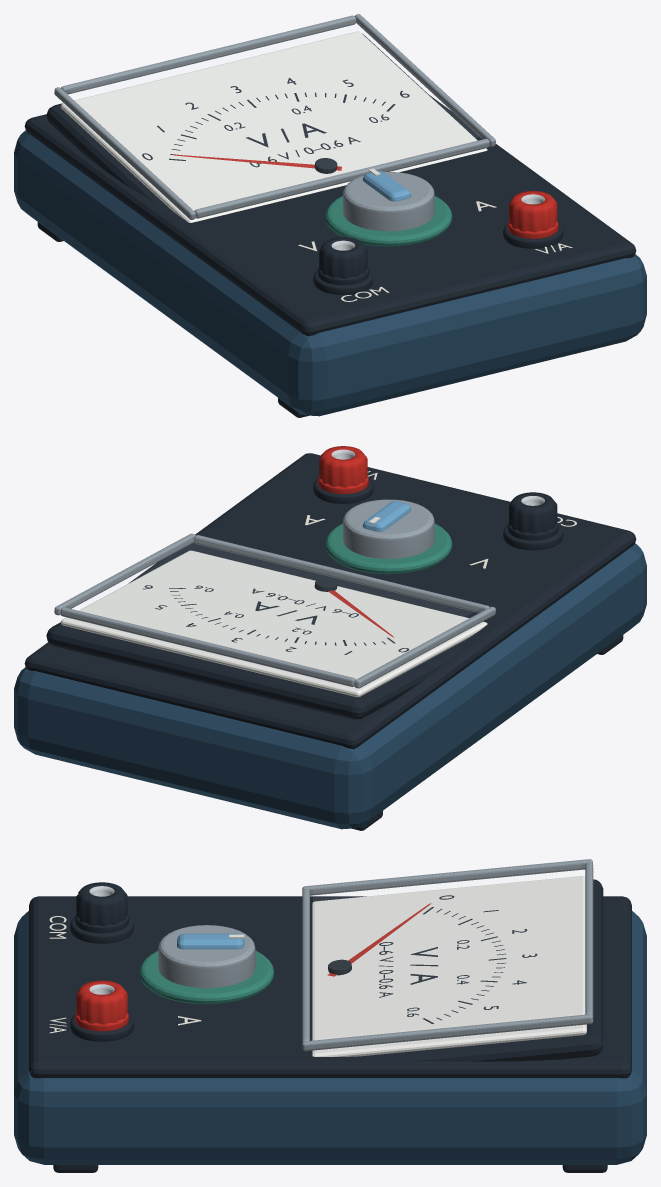
The model's file is multimeter.glb.
The picture shows the model from 3 angles, top to bottom: view 1: azimuth 30°, elevation 25°; view 2: azimuth 150°, elevation 25°; view 3: azimuth 270°, elevation 25°; orthographic projection. The views are drawn at different scales.
Visible parts, largest first — view 1: Rubber meter protective case, Pale printed scale plate, Dark instrument fascia, Selector rotating body, Meter clear-window gasket.003, Meter clear-window gasket.002, Selector bezel, Raised window housing, Meter clear-window gasket, Meter clear-window gasket.001, n binding socket, p binding socket (+3 smaller); view 2: Rubber meter protective case, Dark instrument fascia, Pale printed scale plate, Raised window housing, Selector rotating body, Meter clear-window gasket.003, Meter clear-window gasket.002, Selector bezel, p binding socket, n binding socket, Meter clear-window gasket, Meter clear-window gasket.001 (+3 smaller); view 3: Rubber meter protective case, Dark instrument fascia, Pale printed scale plate, Raised window housing, Selector rotating body, Meter clear-window gasket.001, Meter clear-window gasket, Selector bezel, n binding socket, p binding socket, Meter clear-window gasket.003, Meter clear-window gasket.002 (+6 smaller).
Part boxes in pixels (x1,y1,x2,y2): Rubber meter protective case: (14, 130, 646, 416); Pale printed scale plate: (60, 31, 487, 222); Dark instrument fascia: (24, 95, 636, 336); Selector rotating body: (343, 172, 434, 231); Meter clear-window gasket.003: (61, 15, 356, 94); Meter clear-window gasket.002: (194, 138, 489, 218); Selector bezel: (325, 196, 452, 246); Raised window housing: (46, 33, 463, 206); Meter clear-window gasket: (54, 87, 195, 219); Meter clear-window gasket.001: (354, 14, 495, 146); n binding socket: (319, 237, 367, 278); p binding socket: (509, 191, 557, 232); Rubber meter protective case: (14, 543, 646, 829); Dark instrument fascia: (24, 453, 636, 749); Pale printed scale plate: (60, 550, 487, 697); Raised window housing: (46, 622, 465, 719); Selector rotating body: (343, 499, 434, 558); Meter clear-window gasket.003: (60, 607, 355, 686); Meter clear-window gasket.002: (194, 535, 489, 612); Selector bezel: (325, 523, 452, 574); p binding socket: (319, 446, 367, 487); n binding socket: (509, 492, 557, 533); Meter clear-window gasket: (354, 606, 495, 688); Meter clear-window gasket.001: (54, 533, 195, 615); Rubber meter protective case: (14, 911, 646, 1164); Dark instrument fascia: (29, 896, 631, 1078); Pale printed scale plate: (312, 876, 586, 1056); Raised window housing: (361, 879, 603, 1061); Selector rotating body: (158, 925, 255, 988); Meter clear-window gasket.001: (302, 1014, 593, 1051); Meter clear-window gasket: (302, 859, 593, 895); Selector bezel: (139, 950, 274, 1004); n binding socket: (76, 882, 127, 926); p binding socket: (76, 980, 127, 1024); Meter clear-window gasket.003: (585, 862, 593, 1017); Meter clear-window gasket.002: (302, 889, 309, 1042).
Size of the model in its own units: 0.116 by 0.0454 by 0.169.
